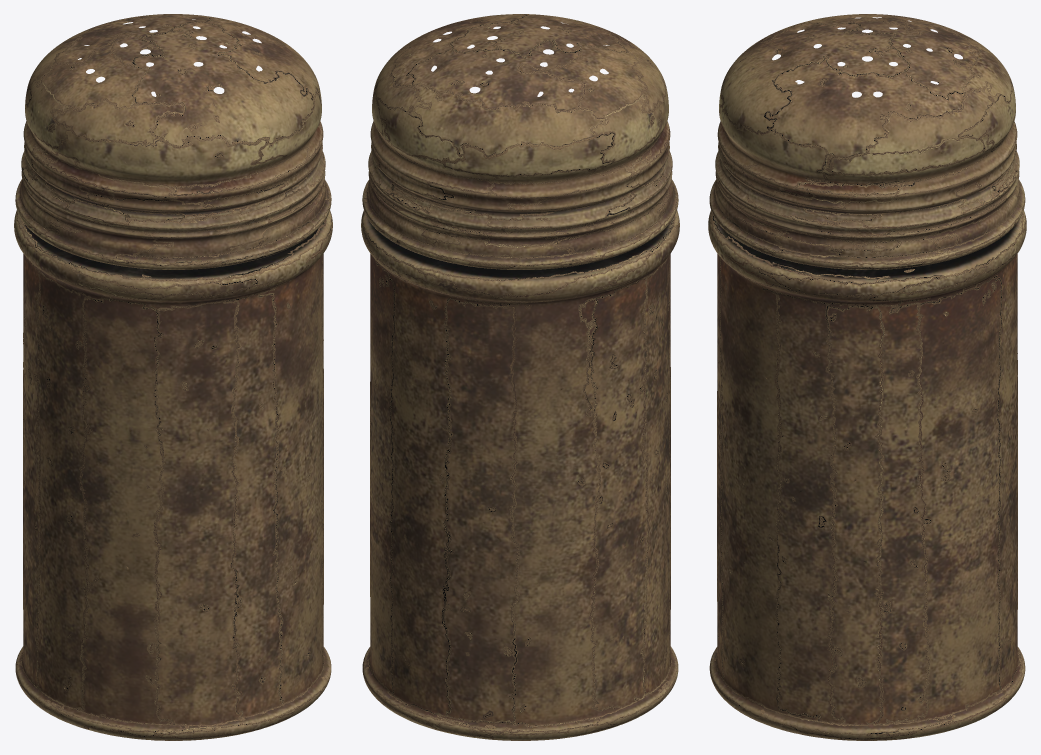
The picture shows the model from 3 angles, left to right: view 1: azimuth 30°, elevation 25°; view 2: azimuth 150°, elevation 25°; view 3: azimuth 270°, elevation 25°; orthographic projection.
Bounding box in the file's own units: 0.8368 × 1.85 × 0.836.
Materials: 1 (1 with a texture image).
